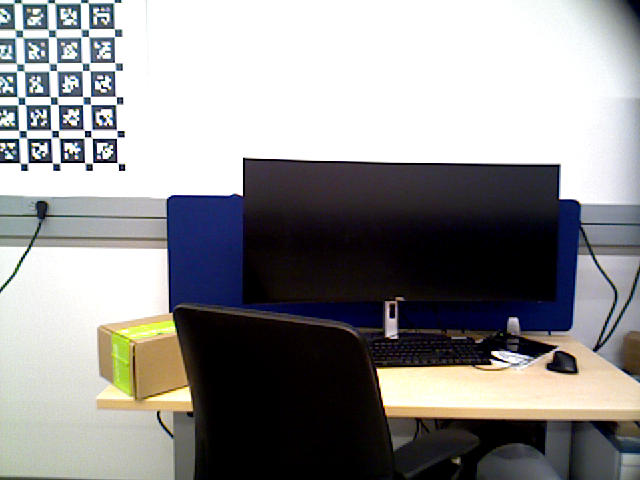painting4: (1, 1, 144, 197)
